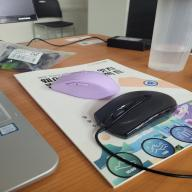mouse: (94, 90, 178, 139), (52, 70, 119, 100)
